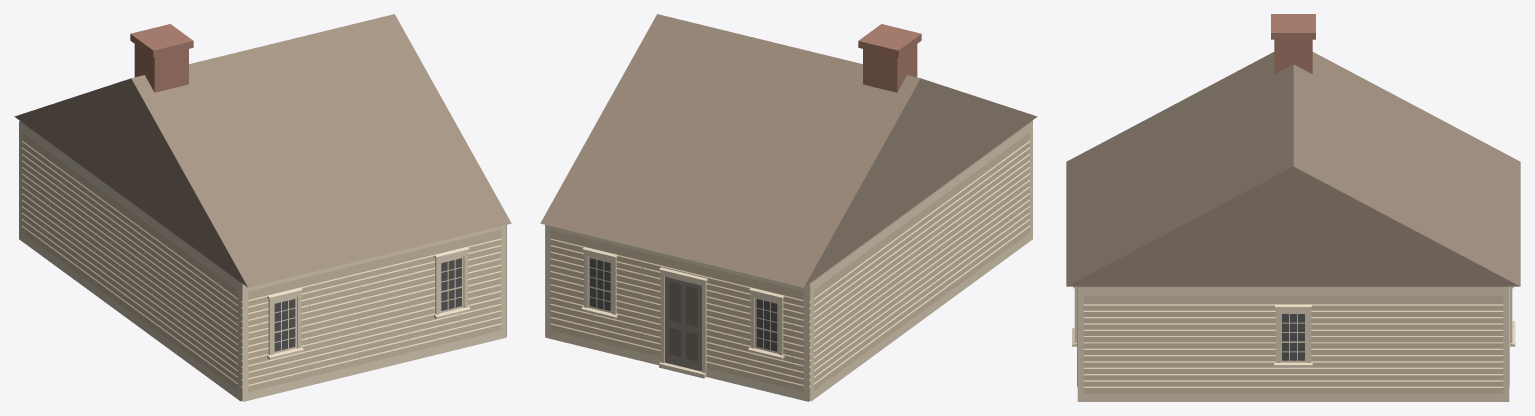
Rendered from recon_1835_blk_randolph_clinton_d5_01__inferred_1835.glb.
3 views of the same model, side by side, from view 1: azimuth 30°, elevation 25°; view 2: azimuth 150°, elevation 25°; view 3: azimuth 270°, elevation 25° (orthographic). The views are drawn at different scales.
Parts seen in each view (by area): view 1: recon_1835_blk_randolph_clinton_d5_01__inferred_1835; view 2: recon_1835_blk_randolph_clinton_d5_01__inferred_1835; view 3: recon_1835_blk_randolph_clinton_d5_01__inferred_1835.
Boxes of the visible parts, <box> form: recon_1835_blk_randolph_clinton_d5_01__inferred_1835: <box>14,14,511,401</box>; recon_1835_blk_randolph_clinton_d5_01__inferred_1835: <box>540,14,1037,401</box>; recon_1835_blk_randolph_clinton_d5_01__inferred_1835: <box>1066,14,1520,401</box>.
Size of the model in its own units: 6.58 by 6.41 by 9.88.
